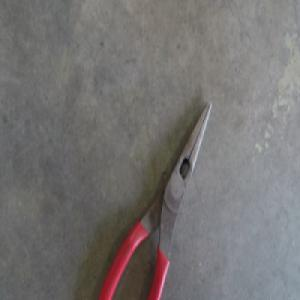Pliers: (97, 99, 211, 299)
